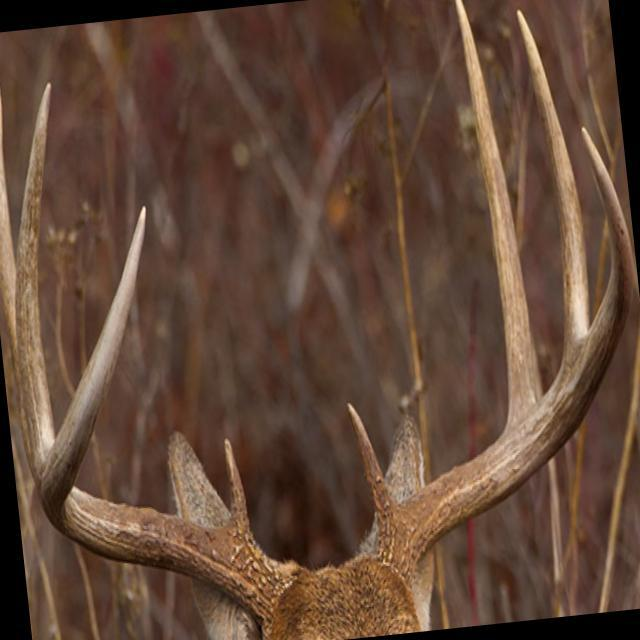L-G1: (345, 400, 394, 520)
L-G2: (455, 0, 543, 418)
L-G3: (516, 9, 590, 351)
R-F: (377, 123, 633, 590), (35, 203, 296, 640)
R-G1: (222, 437, 251, 532)
R-G3: (14, 78, 54, 480)
